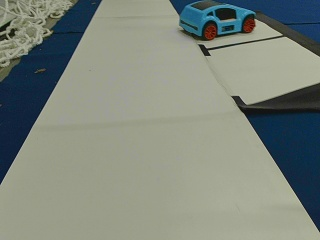car: (179, 3, 256, 39)
